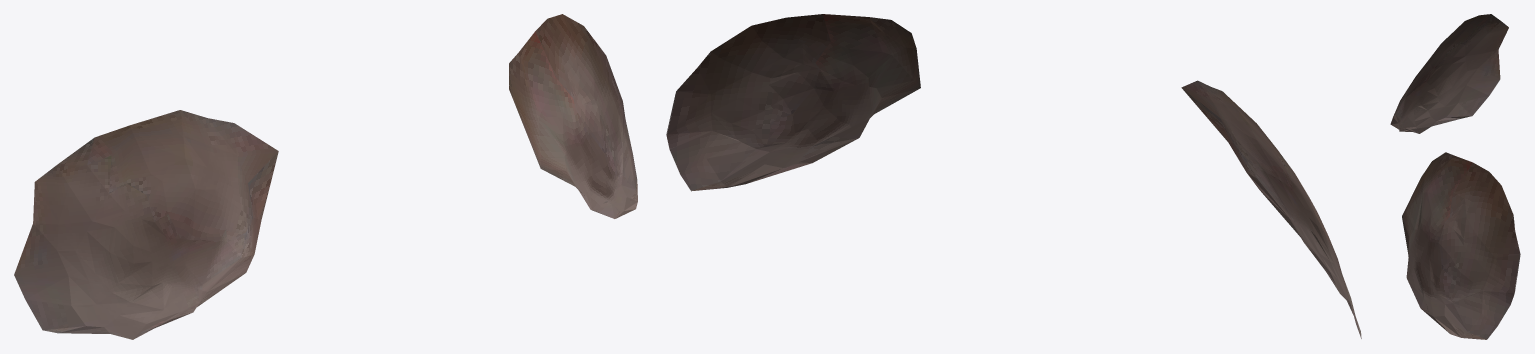
The model's file is ewm_t2mushroomgirl_hat.glb.
3 views of the same model, side by side, from view 1: azimuth 30°, elevation 25°; view 2: azimuth 150°, elevation 25°; view 3: azimuth 270°, elevation 25° (orthographic). The views are drawn at different scales.
Parts seen in each view (by area): view 1: ewm_t2mushroomgirl_hat; view 2: ewm_t2mushroomgirl_hat; view 3: ewm_t2mushroomgirl_hat.
Part boxes in pixels (box(x1,y1,x2,y2)): ewm_t2mushroomgirl_hat: box(14, 14, 637, 339); ewm_t2mushroomgirl_hat: box(666, 14, 1361, 338); ewm_t2mushroomgirl_hat: box(1390, 14, 1520, 339).
Size of the model in its own units: 0.121 by 0.0376 by 0.0295.
1 material, 1 textured.
